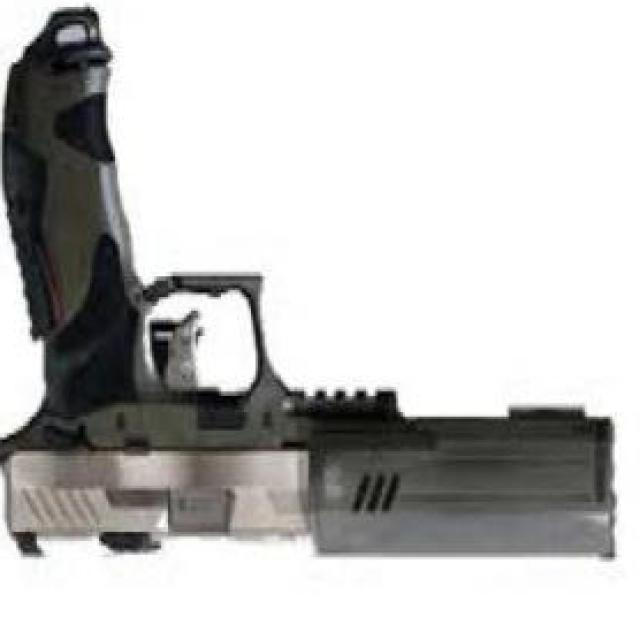pistol: (0, 2, 610, 587)
